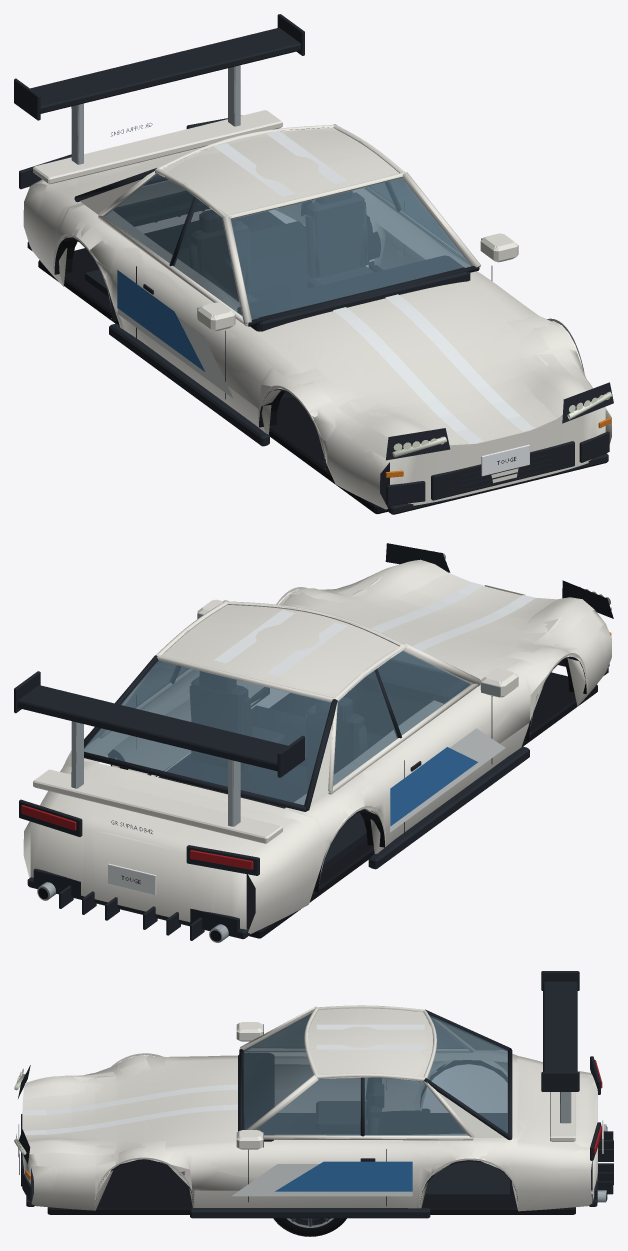
File: grsupra.glb
3 views of the same model, one above another, from view 1: azimuth 30°, elevation 25°; view 2: azimuth 150°, elevation 25°; view 3: azimuth 270°, elevation 25° (orthographic). The views are drawn at different scales.
Visible parts, largest first — view 1: LOD0_body, LOD0_cabin, LOD0_glass, LOD1_glass, LOD1_body, LOD0_hood, LOD1_hood, LOD1_spoiler_gt, LOD1_cabin, LOD0_spoiler_gt, LOD0_vinyl_apex, LOD1_vinyl_twin (+3 smaller); view 2: LOD0_body, LOD0_cabin, LOD1_body, LOD0_glass, LOD1_glass, LOD0_hood, LOD1_hood, LOD1_spoiler_gt, LOD0_spoiler_gt, LOD0_vinyl_apex, LOD1_cabin, LOD1_spoiler_stock (+3 smaller); view 3: LOD0_body, LOD1_body, LOD0_cabin, LOD0_glass, LOD1_glass, LOD0_hood, LOD1_hood, LOD1_cabin, LOD0_vinyl_apex, LOD1_spoiler_gt, LOD0_vinyl_twin, LOD0_spoiler_gt (+4 smaller).
Boxes of the visible parts, left/top/right/bottom form: LOD0_body: left=19, top=115, right=613, bottom=514; LOD0_cabin: left=74, top=124, right=480, bottom=399; LOD0_glass: left=105, top=174, right=470, bottom=319; LOD1_glass: left=105, top=174, right=470, bottom=319; LOD1_body: left=19, top=126, right=611, bottom=514; LOD0_hood: left=255, top=278, right=585, bottom=445; LOD1_hood: left=287, top=294, right=558, bottom=445; LOD1_spoiler_gt: left=14, top=14, right=304, bottom=164; LOD1_cabin: left=75, top=125, right=480, bottom=398; LOD0_spoiler_gt: left=14, top=14, right=304, bottom=164; LOD0_vinyl_apex: left=117, top=243, right=456, bottom=398; LOD1_vinyl_twin: left=214, top=131, right=535, bottom=443; LOD0_body: left=19, top=543, right=613, bottom=942; LOD0_cabin: left=84, top=600, right=480, bottom=877; LOD1_body: left=19, top=551, right=611, bottom=942; LOD0_glass: left=84, top=650, right=470, bottom=804; LOD1_glass: left=84, top=651, right=470, bottom=804; LOD0_hood: left=299, top=559, right=594, bottom=679; LOD1_hood: left=317, top=564, right=558, bottom=673; LOD1_spoiler_gt: left=16, top=671, right=299, bottom=826; LOD0_spoiler_gt: left=14, top=671, right=304, bottom=826; LOD0_vinyl_apex: left=193, top=670, right=505, bottom=832; LOD1_cabin: left=85, top=600, right=478, bottom=877; LOD1_spoiler_stock: left=33, top=769, right=281, bottom=843; LOD0_body: left=14, top=1022, right=613, bottom=1218; LOD1_body: left=15, top=1022, right=607, bottom=1217; LOD0_cabin: left=238, top=1005, right=512, bottom=1199; LOD0_glass: left=244, top=1013, right=507, bottom=1135; LOD1_glass: left=243, top=1013, right=507, bottom=1135; LOD0_hood: left=22, top=1059, right=237, bottom=1155; LOD1_hood: left=22, top=1066, right=214, bottom=1147; LOD1_cabin: left=239, top=1006, right=511, bottom=1199; LOD0_vinyl_apex: left=231, top=1161, right=412, bottom=1196; LOD1_spoiler_gt: left=542, top=981, right=576, bottom=1122; LOD0_vinyl_twin: left=31, top=1024, right=424, bottom=1134; LOD0_spoiler_gt: left=541, top=971, right=579, bottom=1123.
Bounding box in the file's own units: 2.11 × 1.76 × 4.56.
